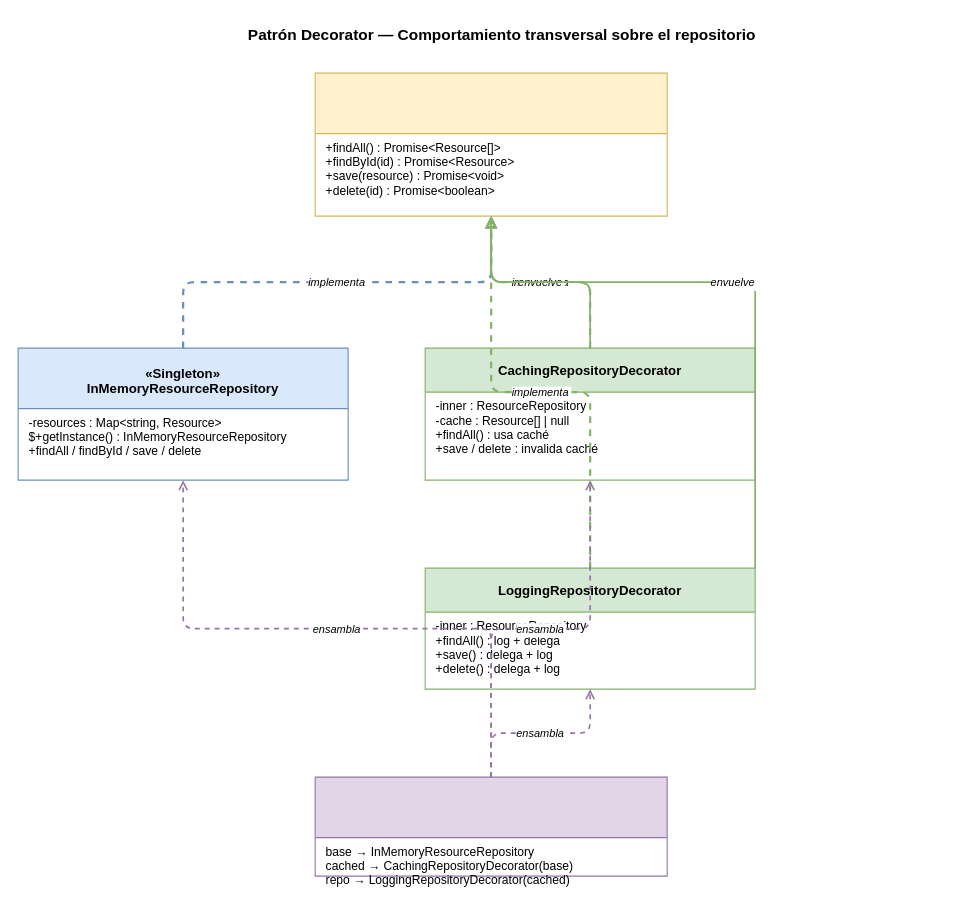
This 960x904 diagram has some shape labels left out. The box of each missing label's shape, as (x1, y1, x2, y2) in pixels:
«composition root» resourceModule: (314, 776, 667, 876)
«interface» ResourceRepository: (314, 72, 667, 216)
